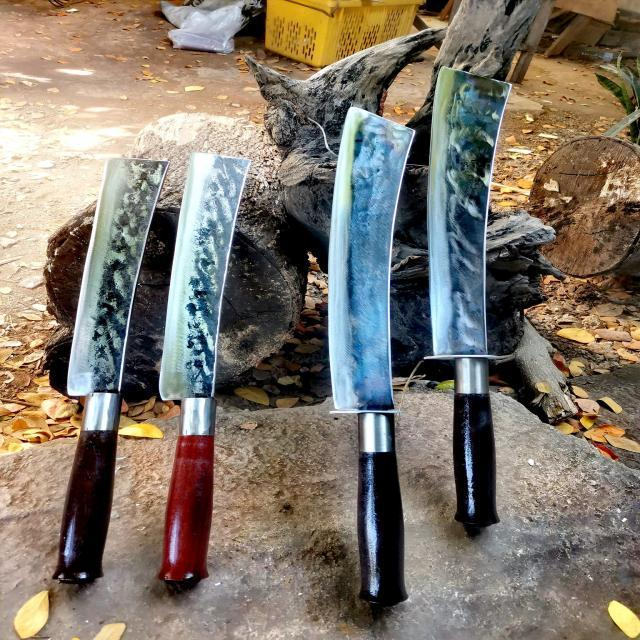eto: (40, 145, 179, 596), (319, 95, 427, 623), (152, 139, 259, 594)
